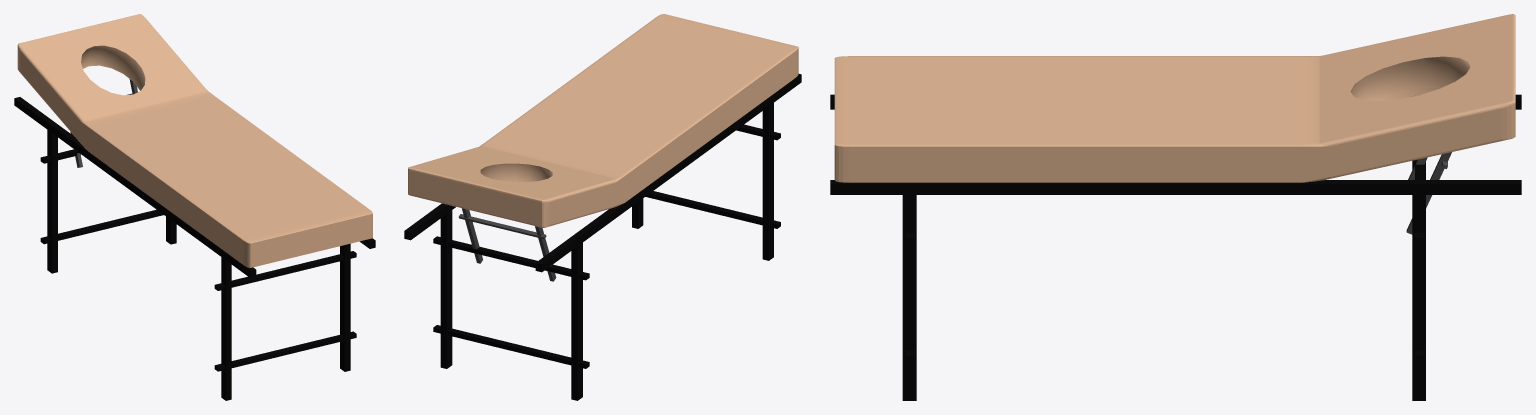
File: massage_bed.fbx
The picture shows the model from 3 angles, left to right: view 1: azimuth 30°, elevation 25°; view 2: azimuth 150°, elevation 25°; view 3: azimuth 270°, elevation 25°; orthographic projection. The views are drawn at different scales.
Parts seen in each view (by area): view 1: Cube.007; view 2: Cube.007; view 3: Cube.007.
Boxes of the visible parts, x1,y1,x2,y2 form: Cube.007: (14, 14, 375, 400); Cube.007: (404, 14, 801, 400); Cube.007: (830, 14, 1521, 400).
Size of the model in its own units: 66.48 by 93.5 by 196.
